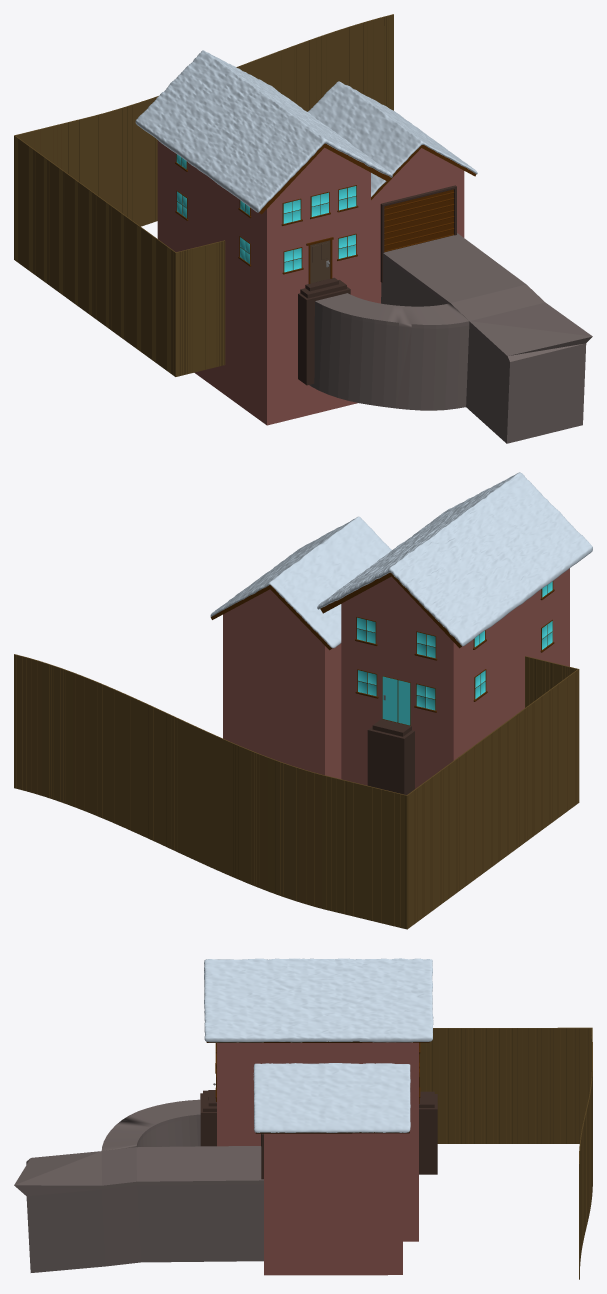
The model's file is stotchshouse_compressed.glb.
3 views of the same model, one above another, from view 1: azimuth 30°, elevation 25°; view 2: azimuth 150°, elevation 25°; view 3: azimuth 270°, elevation 25° (orthographic). The views are drawn at different scales.
Visible parts, largest first — view 1: Cube.730, Cube.724, Cube.729, Cube.743, Cube.725, Cube.726, Cube.739; view 2: Cube.730, Cube.729, Cube.743, Cube.725, Cube.726; view 3: Cube.724, Cube.743, Cube.729, Cube.730, Cube.726, Cube.725.
Part boxes in pixels (bbox=[...]): Cube.730: bbox=[14, 14, 393, 376]; Cube.724: bbox=[309, 233, 592, 443]; Cube.729: bbox=[157, 140, 464, 425]; Cube.743: bbox=[135, 50, 477, 212]; Cube.725: bbox=[175, 143, 476, 283]; Cube.726: bbox=[298, 185, 456, 385]; Cube.739: bbox=[310, 240, 330, 283]; Cube.730: bbox=[14, 654, 579, 929]; Cube.729: bbox=[223, 568, 569, 788]; Cube.743: bbox=[210, 472, 592, 648]; Cube.725: bbox=[210, 572, 554, 725]; Cube.726: bbox=[367, 719, 414, 794]; Cube.724: bbox=[14, 1099, 263, 1272]; Cube.743: bbox=[204, 958, 433, 1132]; Cube.729: bbox=[217, 1042, 418, 1275]; Cube.730: bbox=[419, 1027, 592, 1279]; Cube.726: bbox=[200, 1090, 437, 1179]; Cube.725: bbox=[206, 1041, 429, 1133].
Size of the model in its own units: 4.18 by 2.99 by 6.05.
